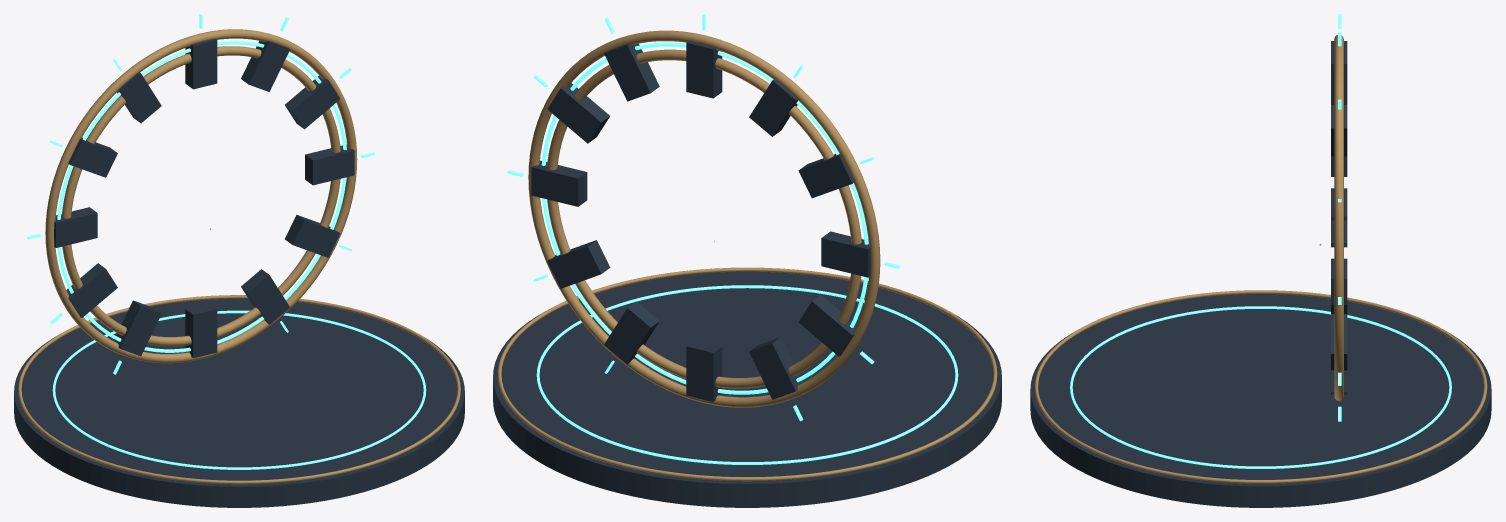
The model's file is chamber.glb.
The picture shows the model from 3 angles, left to right: view 1: azimuth 30°, elevation 25°; view 2: azimuth 150°, elevation 25°; view 3: azimuth 270°, elevation 25°; orthographic projection. The views are drawn at different scales.
Parts seen in each view (by area): view 1: Summoning dais, Portal concentric frame.001, Portal concentric frame, Dais outer rim, Portal light rim, Dais inner light, Aperture segment 06, Aperture segment 03, Aperture segment 02, Aperture segment 07, Aperture segment 01, Aperture segment 08 (+6 smaller); view 2: Summoning dais, Portal concentric frame.001, Portal concentric frame, Dais outer rim, Dais inner light, Portal light rim, Aperture segment 06, Aperture segment 03, Aperture segment 02, Aperture segment 07, Aperture segment 01, Aperture segment 08 (+6 smaller); view 3: Summoning dais, Dais outer rim, Portal concentric frame.001, Dais inner light.
Boxes of the visible parts, x1,y1,x2,y2 form: Summoning dais: (14, 298, 464, 507); Portal concentric frame.001: (45, 29, 357, 363); Portal concentric frame: (61, 46, 340, 346); Dais outer rim: (18, 295, 460, 484); Portal light rim: (57, 40, 346, 352); Dais inner light: (52, 310, 426, 469); Aperture segment 06: (185, 303, 217, 358); Aperture segment 03: (305, 144, 354, 185); Aperture segment 02: (285, 76, 340, 129); Aperture segment 07: (113, 300, 161, 356); Aperture segment 01: (241, 41, 289, 91); Aperture segment 08: (66, 263, 117, 317); Summoning dais: (493, 271, 1001, 507); Portal concentric frame.001: (528, 30, 880, 407); Portal concentric frame: (547, 49, 861, 388); Dais outer rim: (497, 267, 997, 481); Dais inner light: (536, 285, 958, 464); Portal light rim: (541, 42, 868, 394); Aperture segment 06: (686, 340, 722, 401); Aperture segment 03: (531, 160, 587, 206); Aperture segment 02: (547, 83, 609, 143); Aperture segment 07: (749, 337, 803, 399); Aperture segment 01: (604, 43, 659, 101); Aperture segment 08: (798, 295, 856, 356); Summoning dais: (1030, 294, 1491, 507); Dais outer rim: (1034, 290, 1487, 483); Portal concentric frame.001: (1334, 35, 1343, 400); Dais inner light: (1070, 306, 1451, 468).
Size of what is drawn, in the model's own units: 6.2 by 5.61 by 6.2.
